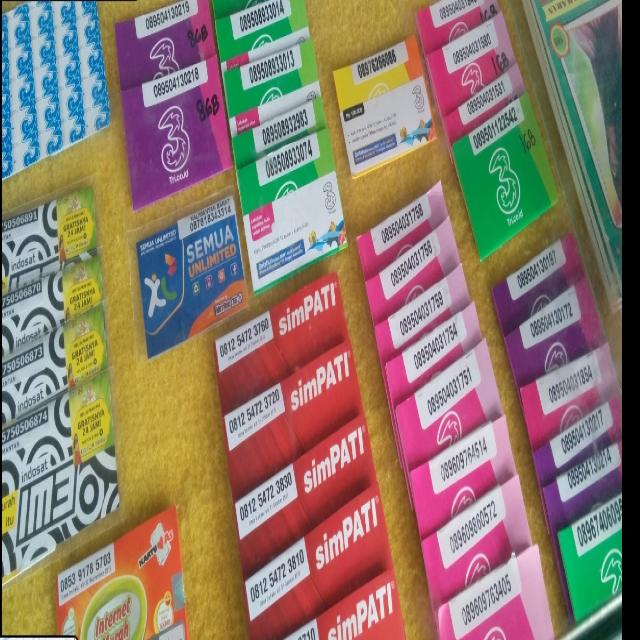Indosat: (498, 226, 623, 637), (0, 199, 118, 577)
Indosat-3: (355, 195, 556, 640), (412, 1, 564, 261), (216, 0, 349, 272), (114, 8, 231, 190), (331, 35, 442, 178)
SimpaTI: (202, 266, 400, 635)
